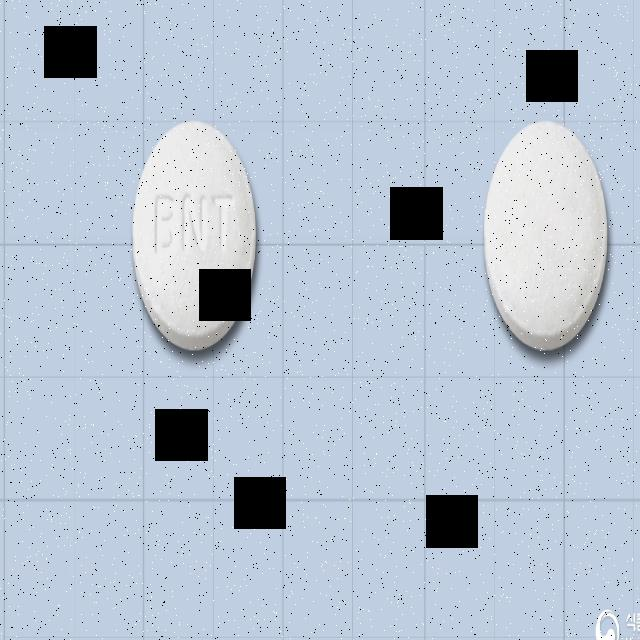Banan: (129, 114, 262, 360)
